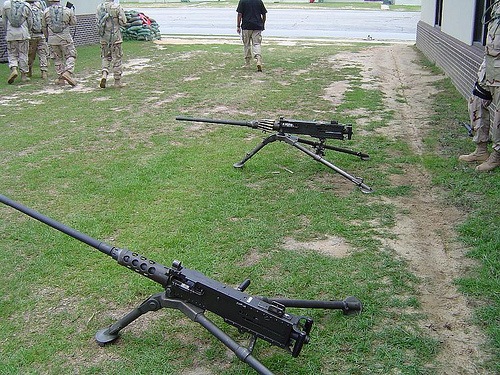rifle: (2, 195, 394, 365), (164, 107, 424, 201)
